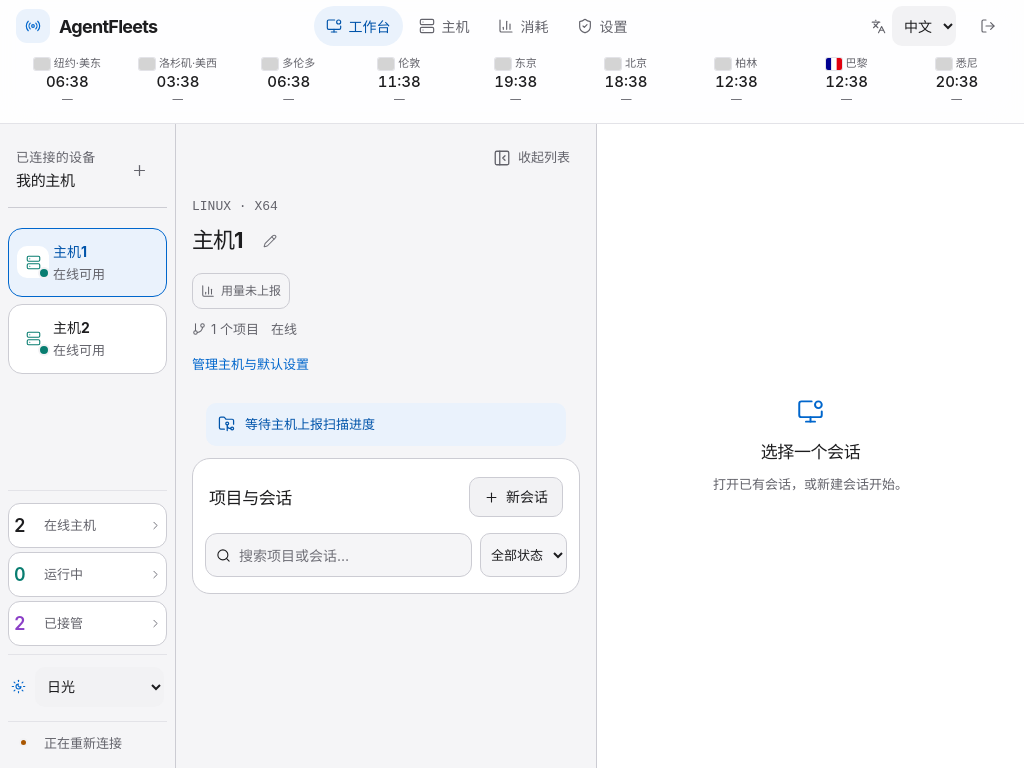
Test case: 会话工作区 › 浏览器存储不可用时仍可收起和展开第二栏
Step 1. Click the button with aria-label "收起项目与会话" → [532, 158], box [483,140,580,176]
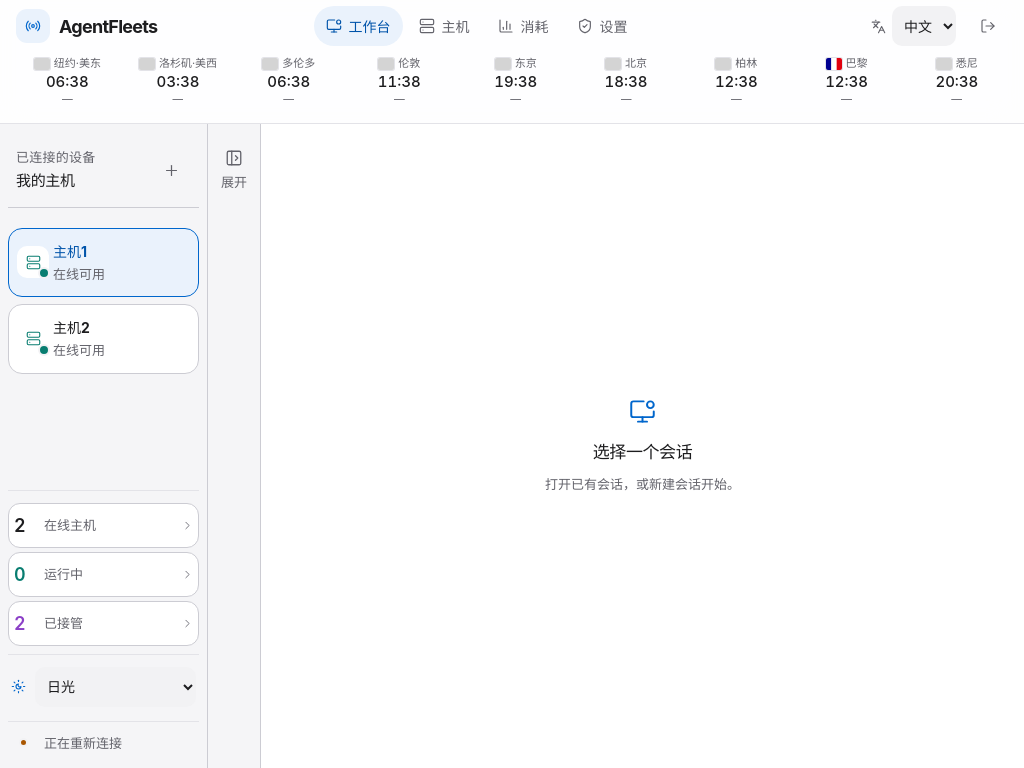
Expected: the button with aria-label "展开项目与会话" is shown, [214,140,254,199]
